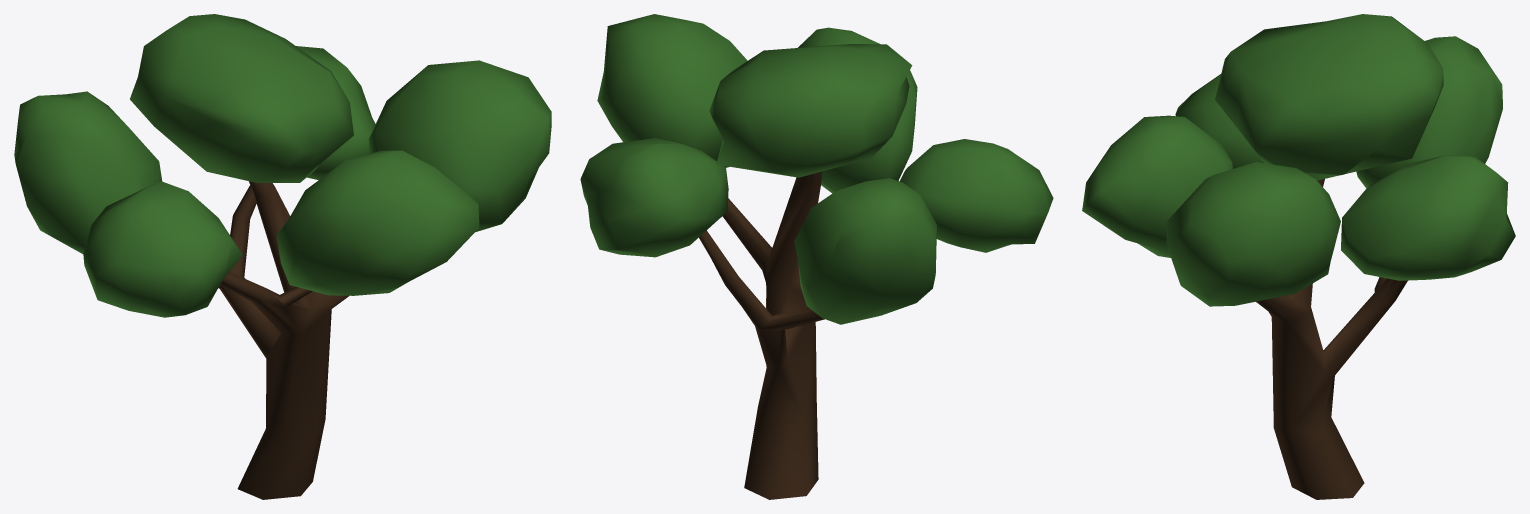
The model's file is Tree06.fbx.
3 renders of one model, left to right at view 1: azimuth 30°, elevation 25°; view 2: azimuth 150°, elevation 25°; view 3: azimuth 270°, elevation 25°, orthographic. The views are drawn at different scales.
Parts seen in each view (by area): view 1: Tree06; view 2: Tree06; view 3: Tree06.
Part boxes in pixels (x1,y1,x2,y2): Tree06: [14, 14, 551, 499]; Tree06: [580, 14, 1053, 499]; Tree06: [1082, 14, 1515, 499].
Size of the model in its own units: 702 by 679 by 608.
